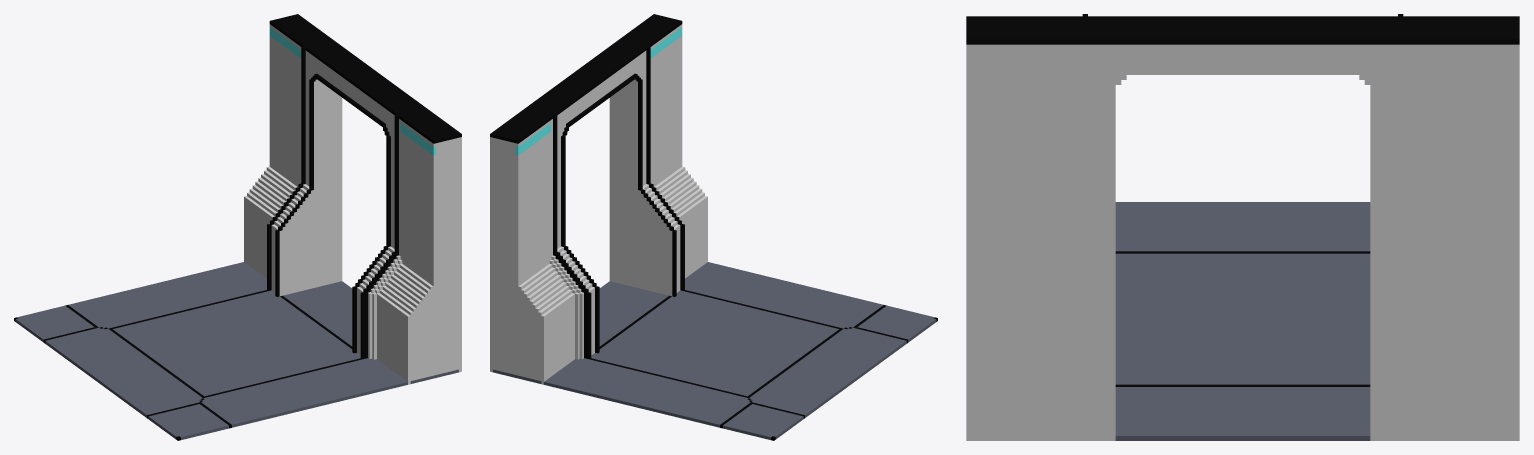
File: TestBlocks-4.obj
3 views of the same model, side by side, from view 1: azimuth 30°, elevation 25°; view 2: azimuth 150°, elevation 25°; view 3: azimuth 270°, elevation 25° (orthographic). The views are drawn at different scales.
Size of the model in its own units: 10 by 8 by 10.
1 material, 1 textured.
